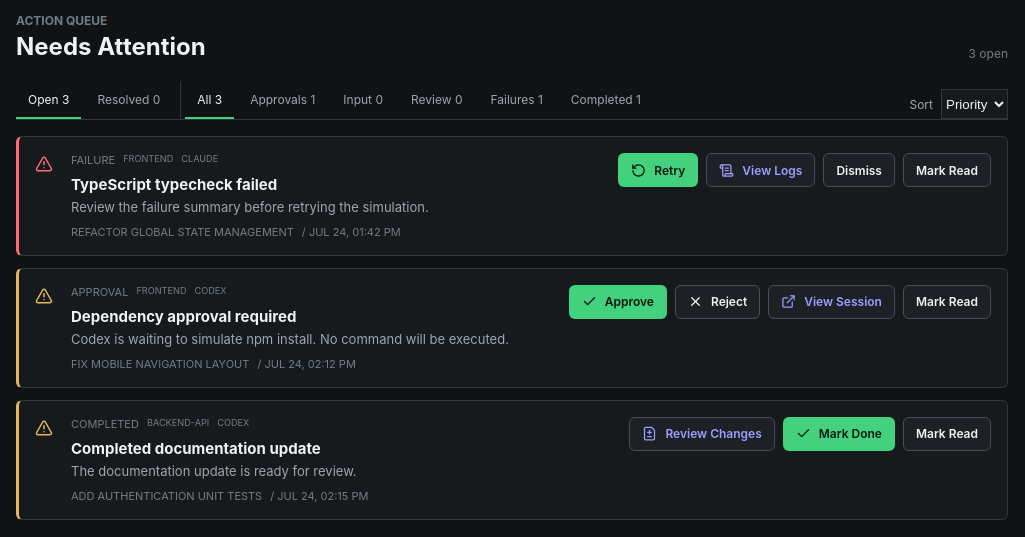
Test case: AttentionPage › marks unread attention as read and dismisses completed work without changing its session status
The width and height of the screenshot is (1025, 537).
Click the button with aria-label "Mark Read Dependency approval required" at {"x": 947, "y": 302}, box [903, 285, 991, 319]
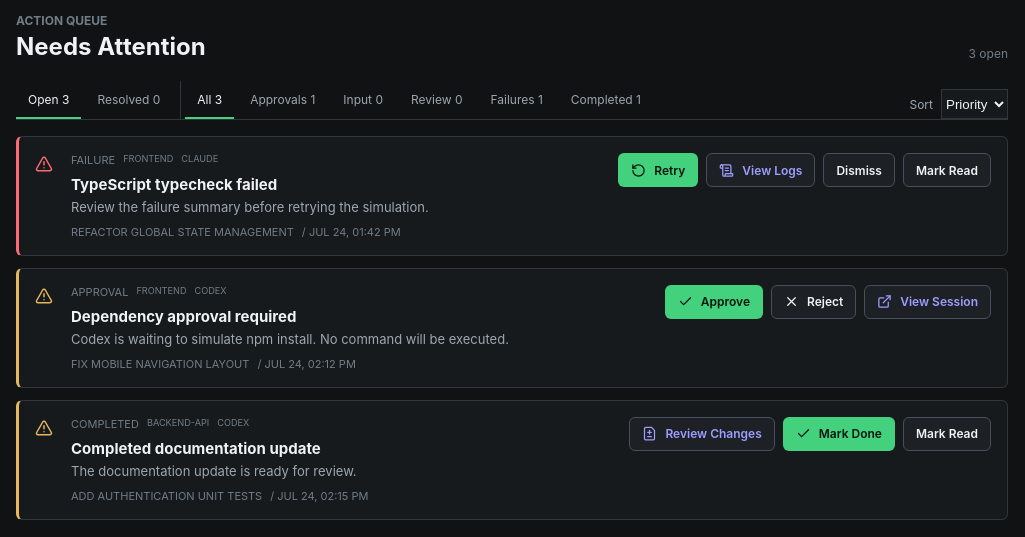
Click the button with aria-label "Mark Done Completed documentation update" at {"x": 839, "y": 434}, box [783, 417, 895, 451]
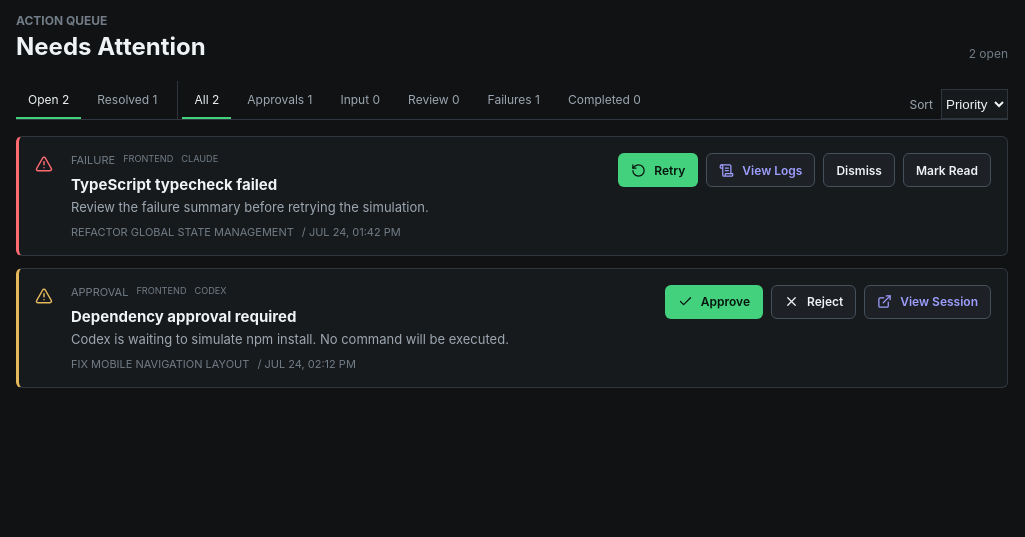
Result: the heading "Completed documentation update" is gone
